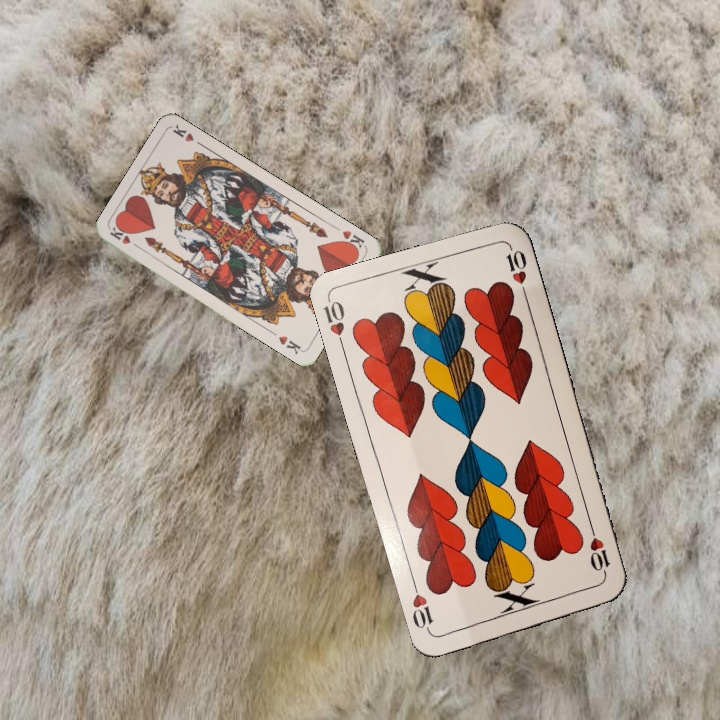H10: (320, 296, 348, 355), (586, 523, 613, 581)
HK: (106, 223, 144, 252), (337, 226, 368, 254)
